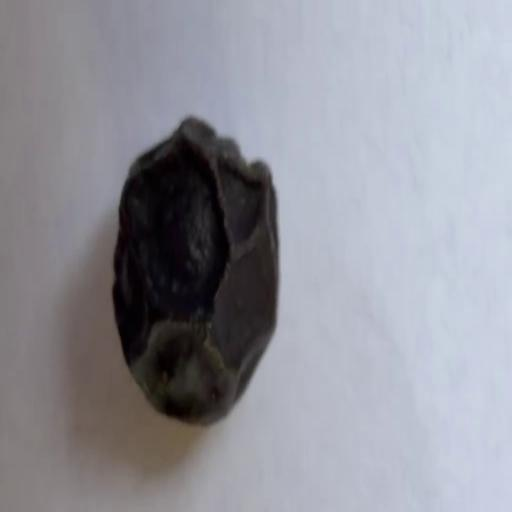Black_pepper: (102, 108, 293, 428)
